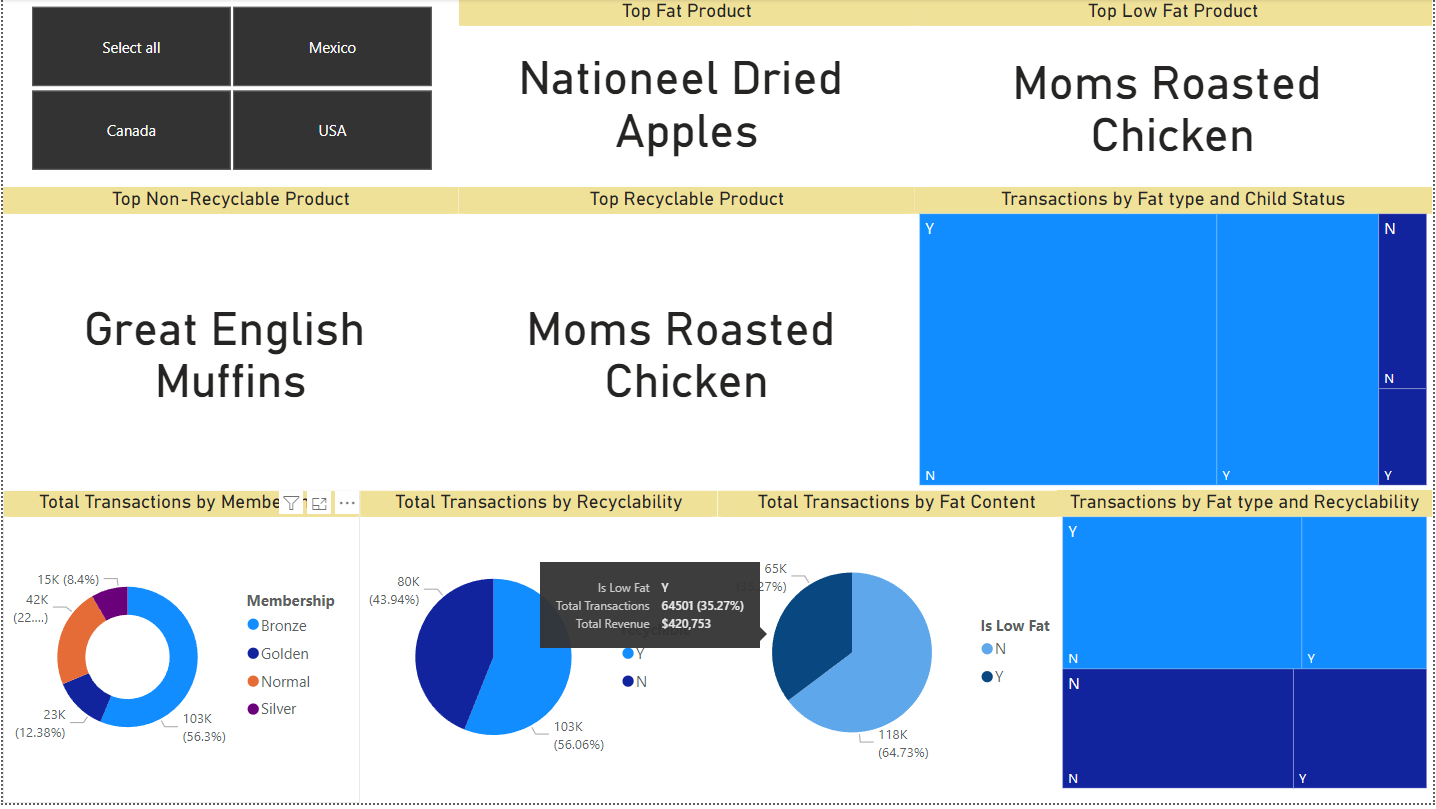

The dashboard page shown, as its layout file describes it:
{"tool":"powerbi","page":{"name":"Product Effect","canvas":[1280,720],"ordinal":1},"visuals":[{"type":"pieChart","title":"Total Transactions by Fat Content","fields":{"Category":["Products.low_fat"],"Y":["Transaction_Data.Total Transactions"]},"box":[640,440,320,272],"z":0},{"type":"pieChart","title":"Total Transactions by Recyclability","fields":{"Y":["Transaction_Data.Total Transactions"],"Category":["Products.recyclable"]},"box":[320,440,320,280],"z":1000},{"type":"treemap","title":"Transactions by Fat type and Child Status ","fields":{"Group":["Customers.has_children"],"Details":["Products.low_fat"],"Values":["Transaction_Data.Total Transactions"]},"box":[816,168,464,272],"z":2000},{"type":"donutChart","fields":{"Series":["Customers.member_card"],"Y":["Transaction_Data.Total Transactions"]},"box":[0,440,320,280],"z":3000},{"type":"card","title":"Top Fat Product","fields":{"Values":["Min(Products.product_name)"]},"box":[408,0,408,160],"z":4000},{"type":"card","title":"Top Low Fat Product","fields":{"Values":["Min(Products.product_name)"]},"box":[816,0,464,168],"z":5000},{"type":"slicer","fields":{"Values":["Stores.store_country"]},"box":[0,0,408,160],"z":6000},{"type":"treemap","title":"Transactions by Fat type and Recyclability","fields":{"Details":["Products.low_fat"],"Values":["Transaction_Data.Total Transactions"],"Group":["Products.recyclable"]},"box":[944,440,336,272],"z":7000},{"type":"card","title":"Top Non-Recyclable Product","fields":{"Values":["Min(Products.product_name)"]},"box":[0,168,408,272],"z":8000},{"type":"card","title":"Top Recyclable Product","fields":{"Values":["Min(Products.product_name)"]},"box":[408,168,408,272],"z":9000}]}

Visuals, with their boxes in screenshot pixels (x1, y1, x2, y2), scaled from the page's 1280x720 canvas onto the 1436x809 screenshot:
"Total Transactions by Fat Content" pieChart: (718, 494, 1077, 800)
"Total Transactions by Recyclability" pieChart: (359, 494, 718, 808)
"Transactions by Fat type and Child Status " treemap: (915, 189, 1435, 494)
donutChart - Customers.member_card x Transaction_Data.Total Transactions: (0, 494, 359, 808)
"Top Fat Product" card: (458, 0, 915, 180)
"Top Low Fat Product" card: (915, 0, 1435, 189)
slicer - Stores.store_country: (0, 0, 458, 180)
"Transactions by Fat type and Recyclability" treemap: (1059, 494, 1435, 800)
"Top Non-Recyclable Product" card: (0, 189, 458, 494)
"Top Recyclable Product" card: (458, 189, 915, 494)
